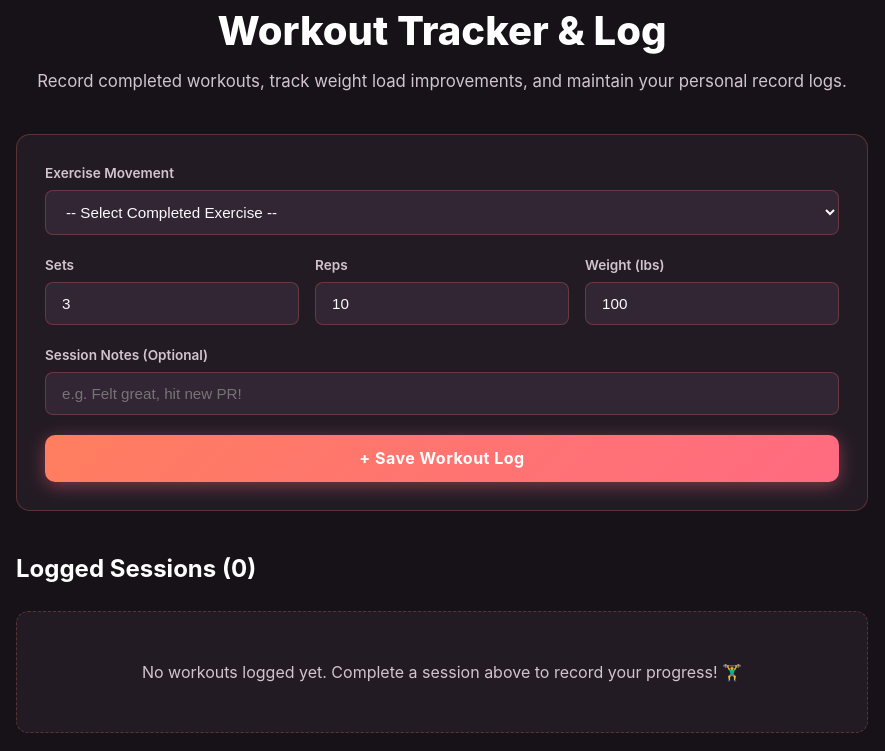
it: WorkoutLog Component › successfully adds a new workout log entry and persists to localStorage
Note: Select exercise (ex-1 is Barbell Bench Press)
Select "Barbell Bench Press (Chest)" in the dropdown labelled "Exercise Movement". click: (442, 212)
box: [45,190,839,235]
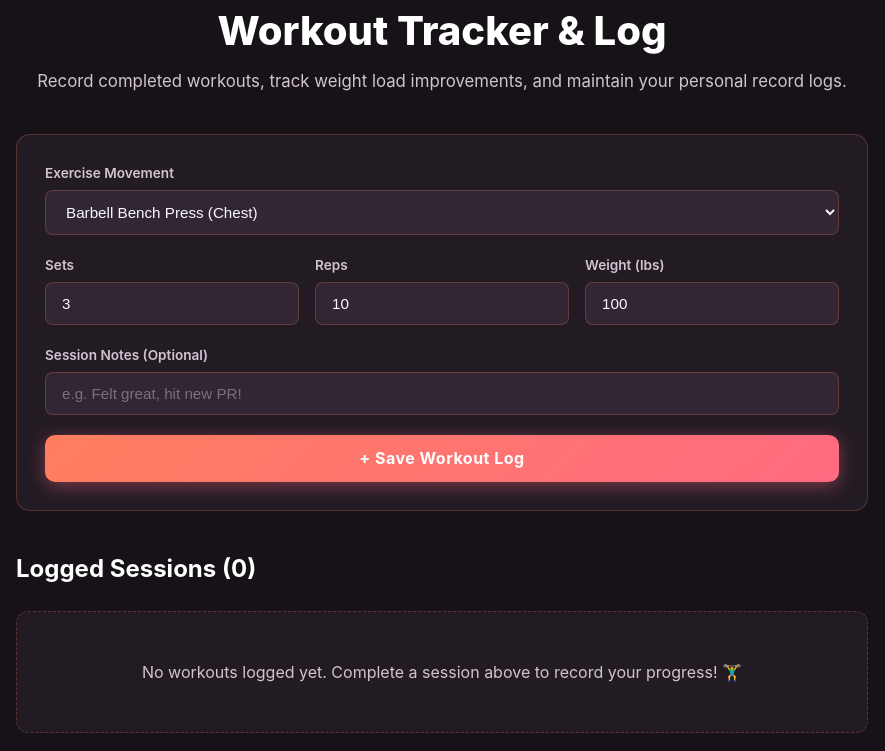
Note: Fill form inputs
Replace the text in the number field labelled "Sets" with "4". click: (172, 303)
box: [45,282,299,325]
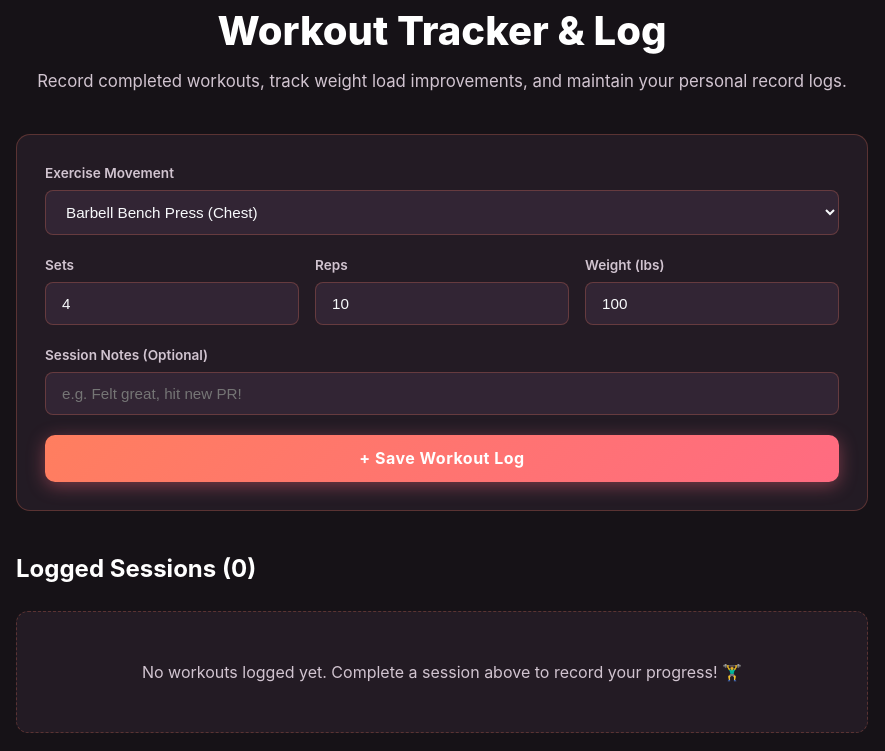
Replace the text in the number field labelled "Reps" with "8". click: (442, 303)
box: [315,282,569,325]
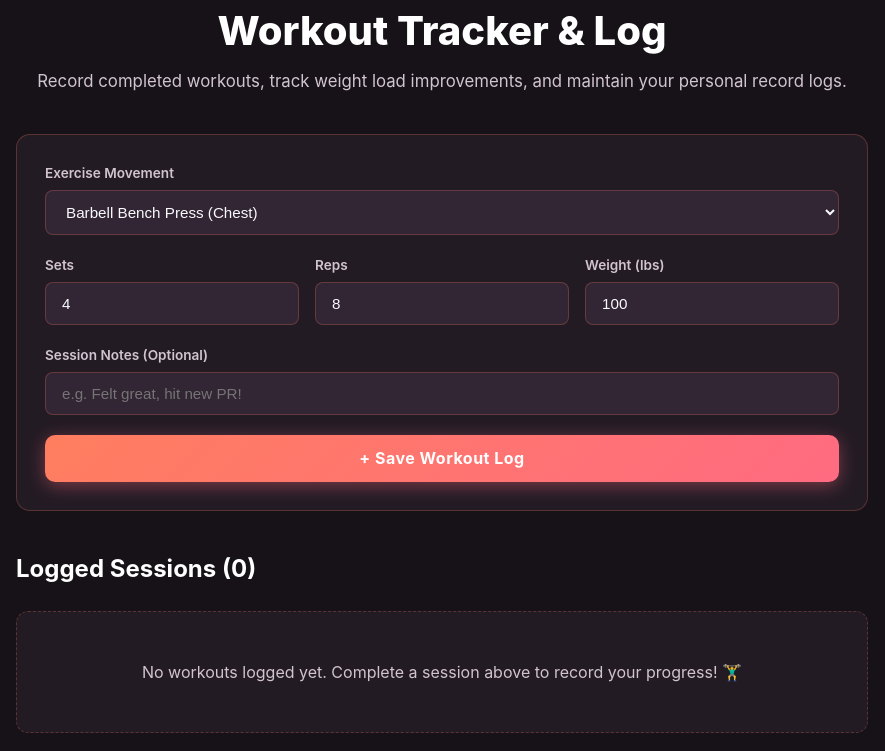
Replace the text in the number field labelled "Weight (lbs)" with "135". click: (712, 303)
box: [585,282,839,325]
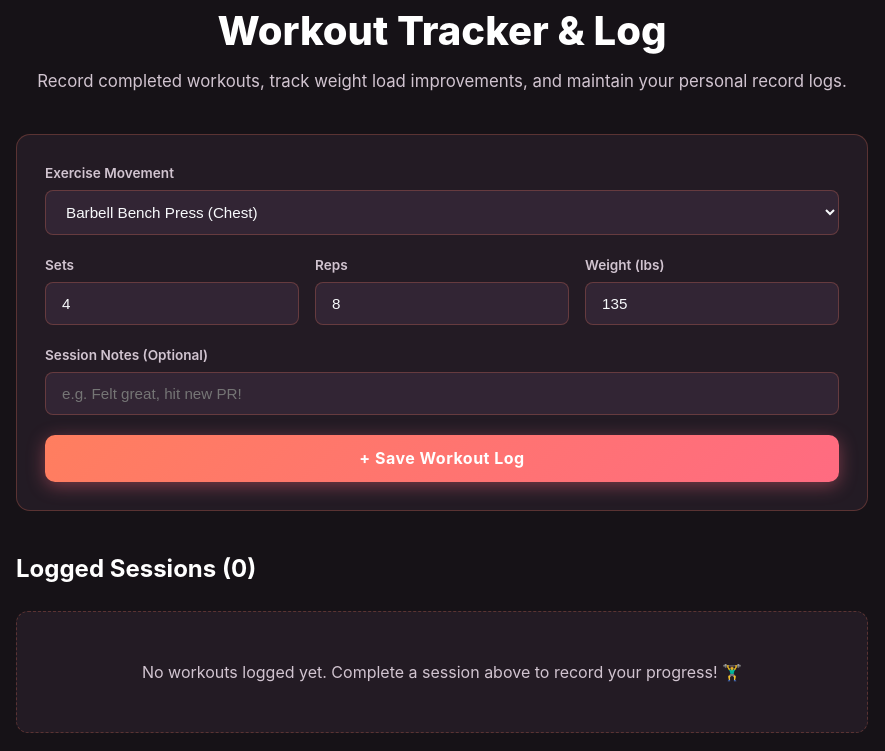
Type "Solid session" into the field labelled "Session Notes (Optional)". click: (442, 393)
box: [45,372,839,414]
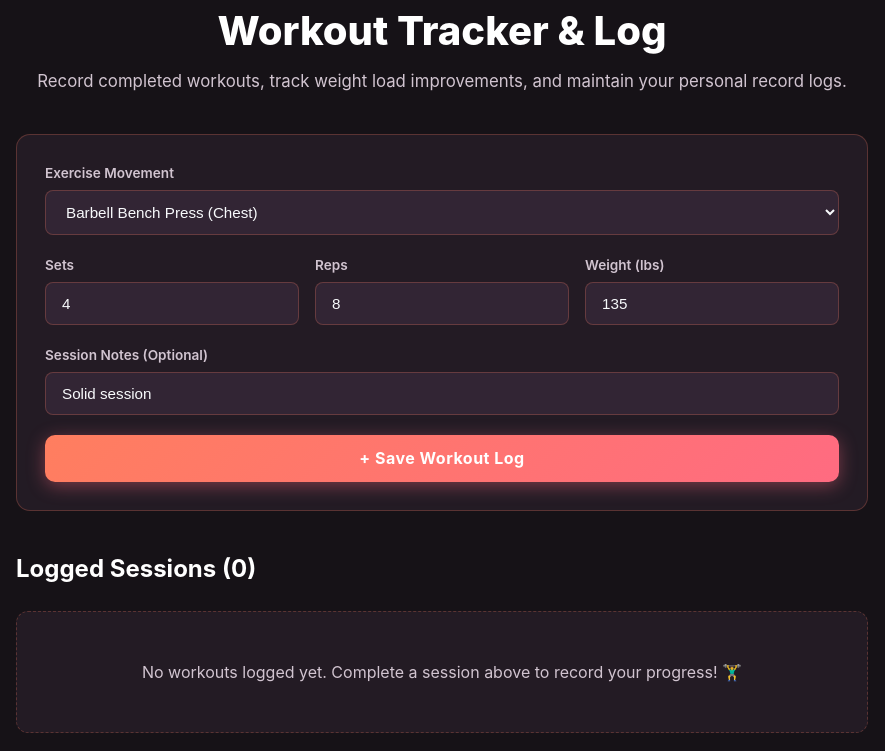
Note: Submit form
Click the button "+ Save Workout Log". click: (442, 458)
box: [45,434,839,482]
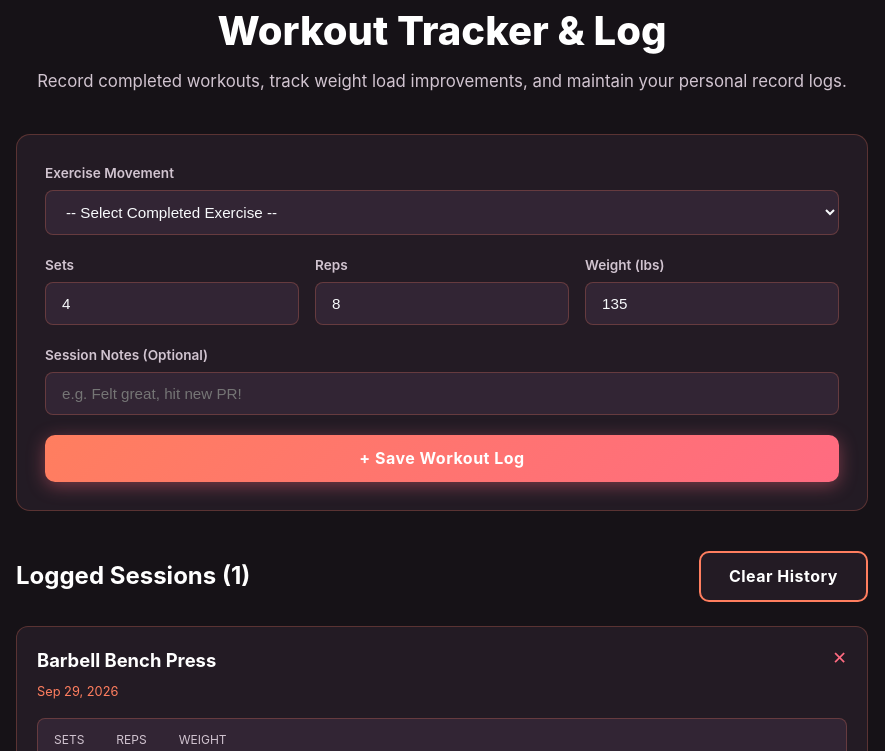
Check: the heading "Barbell Bench Press" is shown, box [37,647,216,674]
Check: the heading "Logged Sessions (1)" is shown, box [16,558,250,594]
